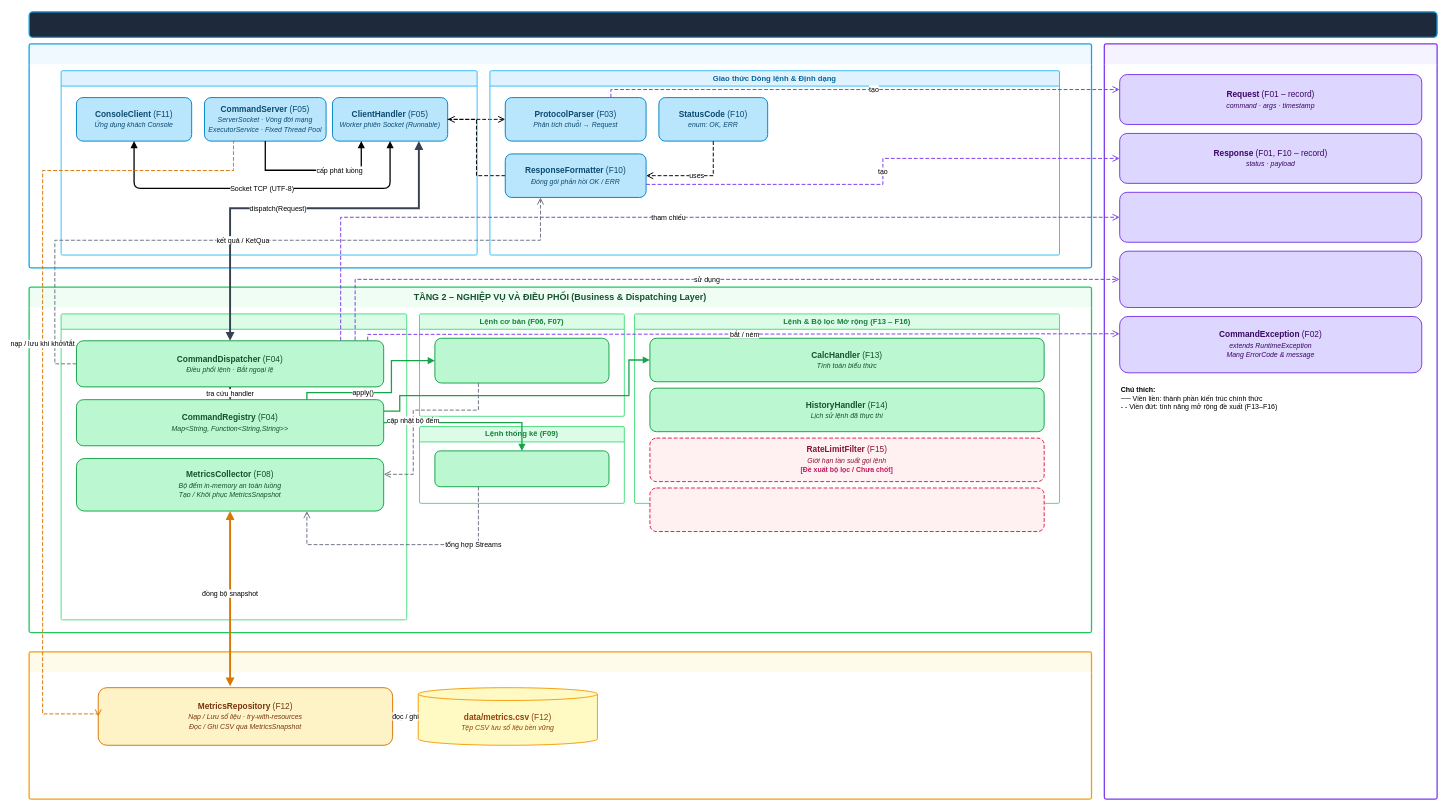
This 1449x810 diagram has some shape labels left out. Here are the shapes that lost their labels. From the top down, the box of each, then its label:
(28, 11, 1437, 38): KIẾN TRÚC PHÂN LỚP Hệ thống Máy chủ Dịch vụ Dòng lệnh – Đề tài 31 AJP201
(60, 70, 477, 255): Hạ tầng TCP & Quản lý Kết nối
(28, 43, 1092, 268): TẦNG 1 – MẠNG VÀ GIAO TIẾP (Presentation & Network Layer)
(1119, 192, 1422, 242): ErrorCode (F02 – enum) UNKNOWN_COMMAND · SYNTAX · INTERNAL…
(1119, 250, 1422, 308): KetQua (F02 – sealed interface) ThanhCong(data) | ThatBai(code,msg)
(434, 337, 609, 383): TimeHandler · DateHandler EchoHandler · UpperHandler
(1103, 43, 1437, 799): MÔ HÌNH DÙNG CHUNG & NGOẠI LỆ Cross-cutting / Shared Models & Exceptions
(60, 313, 407, 620): Khung Điều phối & Đăng ký Lệnh
(434, 450, 609, 487): StatsHandler Tổng hợp số liệu (Streams API)
(649, 487, 1044, 532): SessionControl (F16) Quản lý phiên kết nối [Đề xuất kiểm soát phiên / Chưa chốt]
(28, 651, 1092, 799): TẦNG 3 – DỮ LIỆU VÀ LƯU TRỮ (Data & Persistence Layer)
